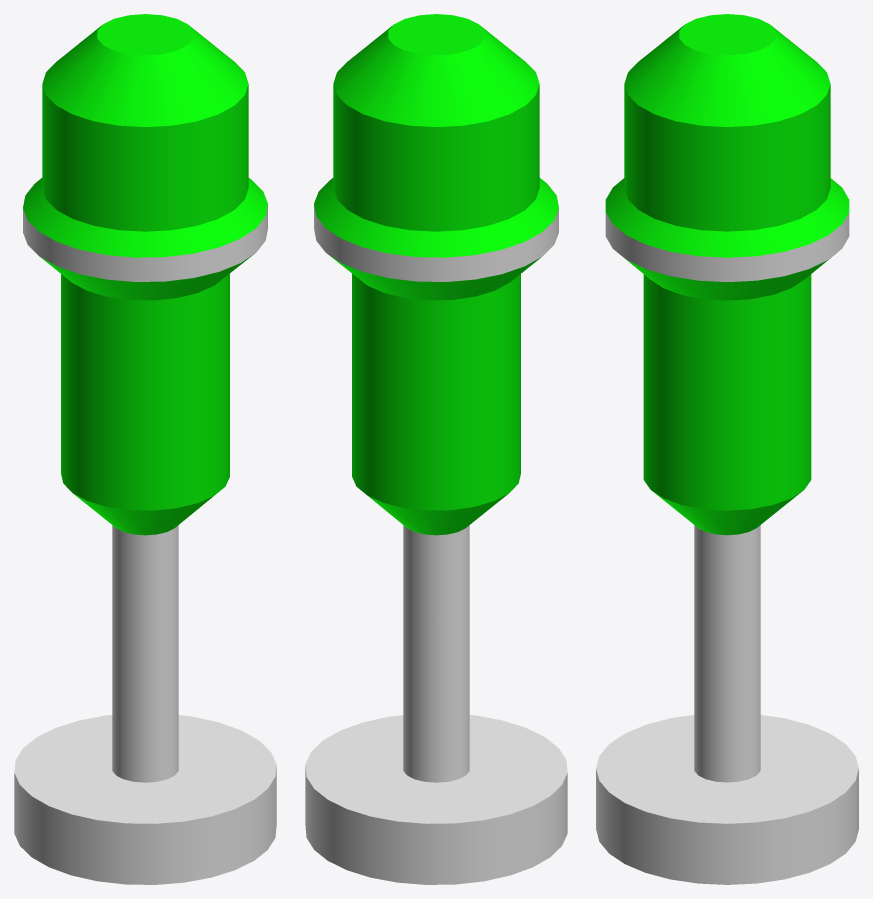
3 renders of one model, left to right at view 1: azimuth 30°, elevation 25°; view 2: azimuth 150°, elevation 25°; view 3: azimuth 270°, elevation 25°, orthographic.
Visible parts, largest first — view 1: *SOL506; view 2: *SOL506; view 3: *SOL506.
Boxes of the visible parts, box(x1,y1,x2,y2) form: *SOL506: box(14, 14, 276, 884); *SOL506: box(305, 14, 567, 884); *SOL506: box(596, 14, 858, 884).
Size of the model in its own units: 0.767 by 2.56 by 0.767.
